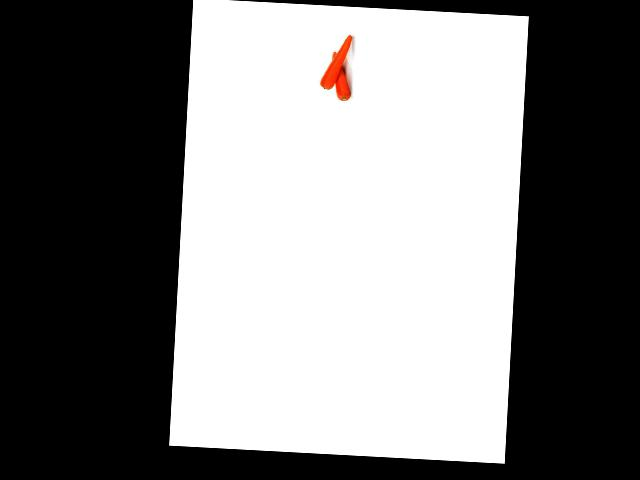carrot: (329, 47, 352, 106)
